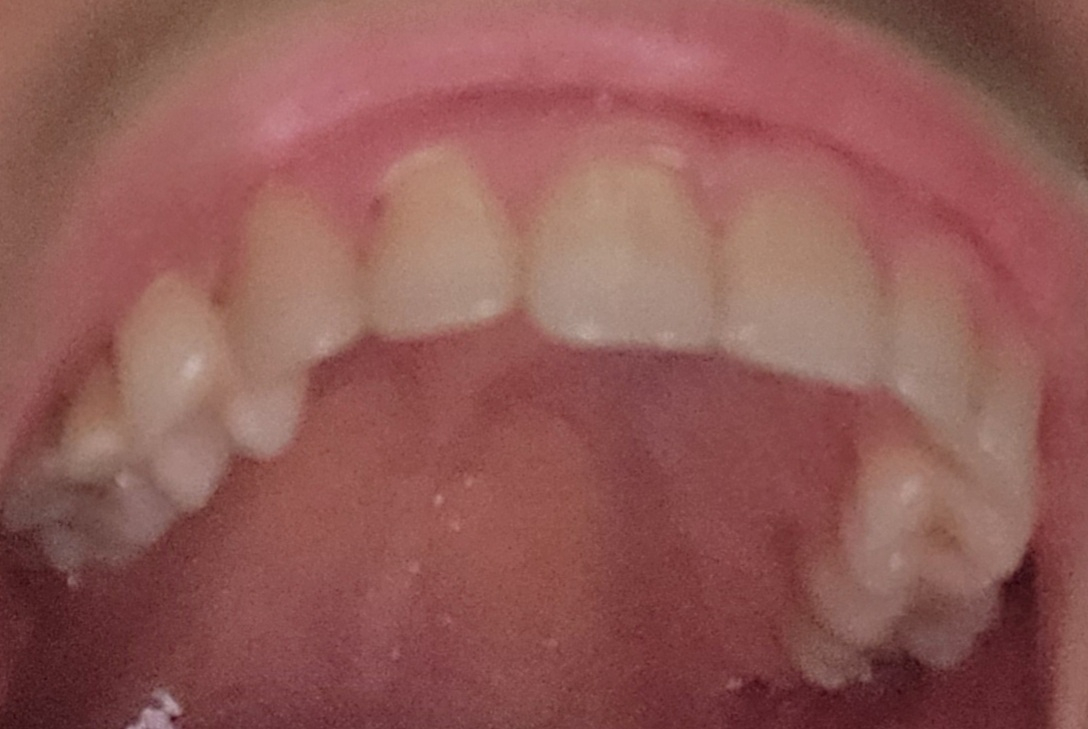teeth: (529, 152, 719, 346), (722, 179, 885, 392), (363, 142, 524, 343), (131, 293, 307, 468), (65, 335, 216, 514), (230, 179, 365, 371), (855, 449, 1031, 566), (810, 560, 1000, 666), (942, 321, 1045, 509), (890, 235, 973, 434), (22, 439, 166, 536), (843, 549, 1019, 610), (24, 528, 148, 578), (785, 631, 872, 688)
